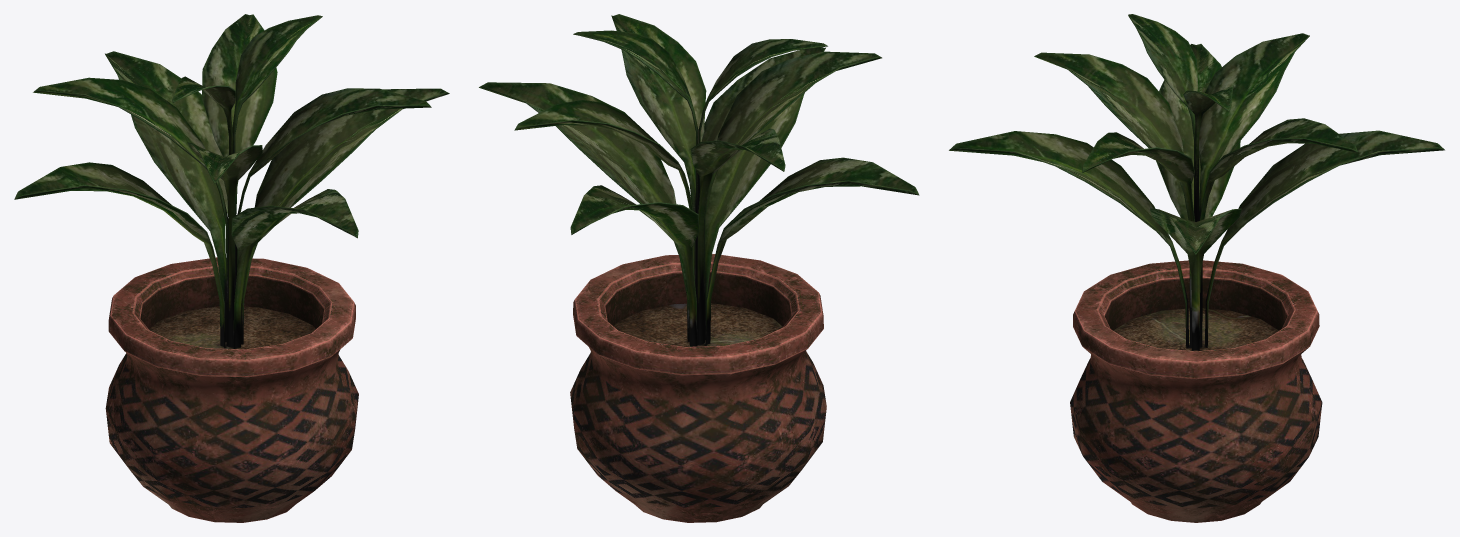
File: Tree7.fbx
The picture shows the model from 3 angles, left to right: view 1: azimuth 30°, elevation 25°; view 2: azimuth 150°, elevation 25°; view 3: azimuth 270°, elevation 25°; orthographic projection. The views are drawn at different scales.
Parts seen in each view (by area): view 1: Tree7; view 2: Tree7; view 3: Tree7.
Boxes of the visible parts, x1=… form: Tree7: x1=14, y1=14, x2=449, y2=522; Tree7: x1=479, y1=14, x2=919, y2=522; Tree7: x1=949, y1=14, x2=1444, y2=522.
Bounding box in the file's own units: 137 × 133 × 137.
Materials: 1 (1 with a texture image).
